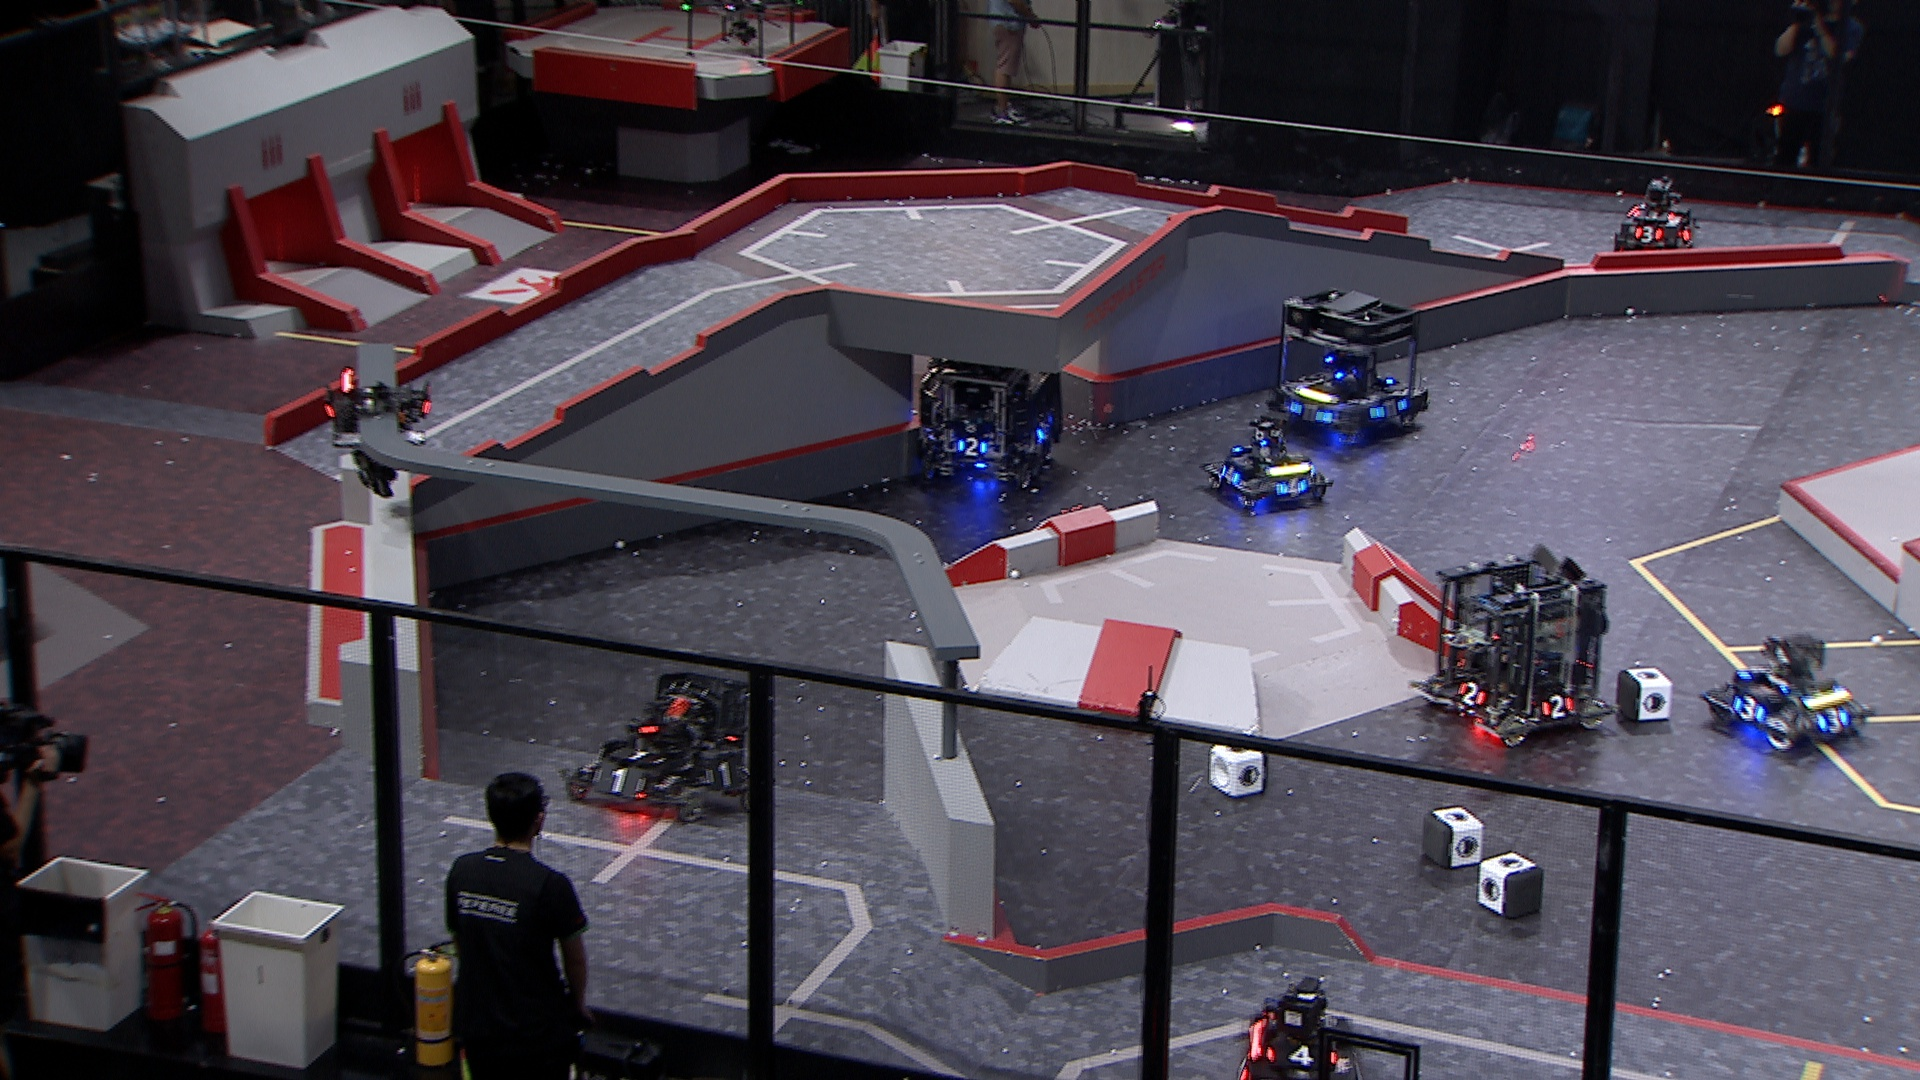armor: (1262, 1044, 1340, 1072), (589, 766, 647, 798), (609, 744, 666, 769), (1367, 396, 1410, 425), (1291, 400, 1332, 429), (1815, 705, 1851, 735), (1731, 698, 1768, 727), (1542, 695, 1576, 723), (704, 764, 741, 789), (1273, 475, 1309, 500), (1458, 680, 1487, 709), (955, 436, 992, 458), (1631, 207, 1676, 224), (1735, 665, 1775, 683), (1220, 462, 1242, 491), (1633, 225, 1664, 245), (1236, 1055, 1250, 1080), (1036, 422, 1054, 442)
car: (1404, 545, 1617, 746), (560, 665, 757, 825), (1269, 286, 1429, 448), (916, 344, 1067, 495), (1698, 633, 1878, 752), (1199, 414, 1335, 517), (1236, 973, 1358, 1080), (1607, 174, 1698, 256)
watcher: (324, 367, 436, 498)
